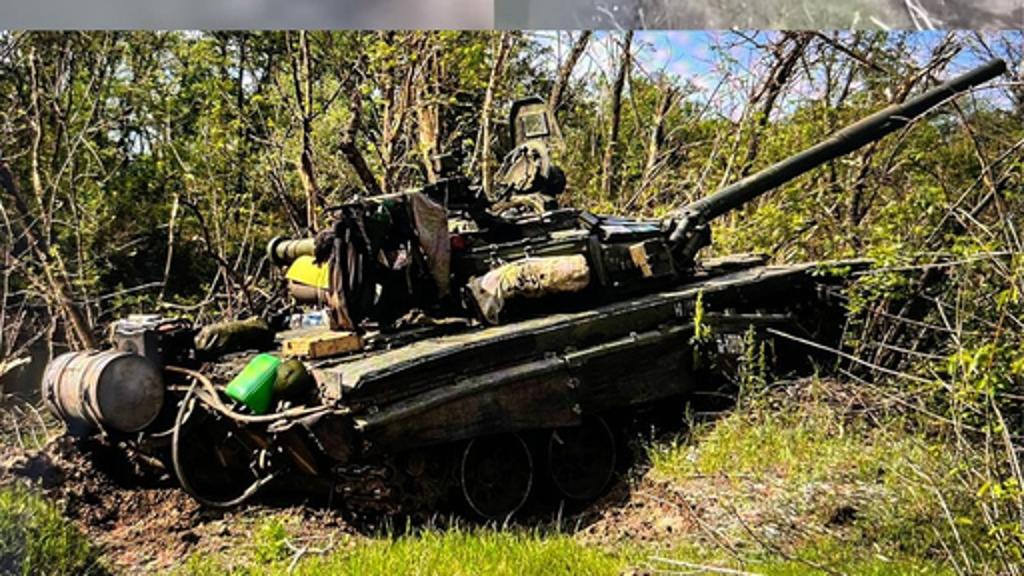TANK: (46, 52, 1010, 540)
